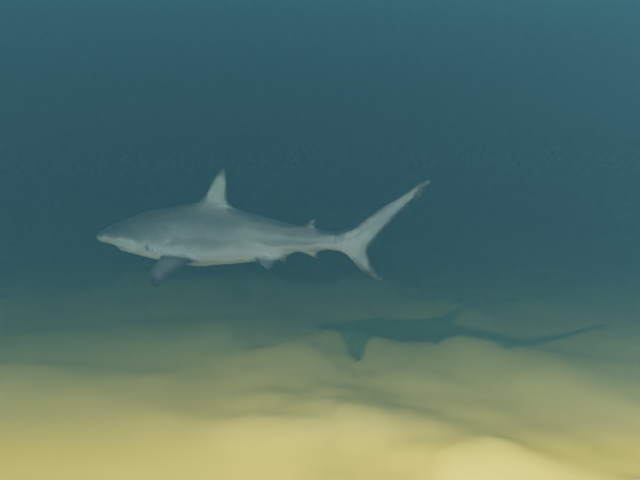Carribean Shark.001: (96, 168, 431, 287)
